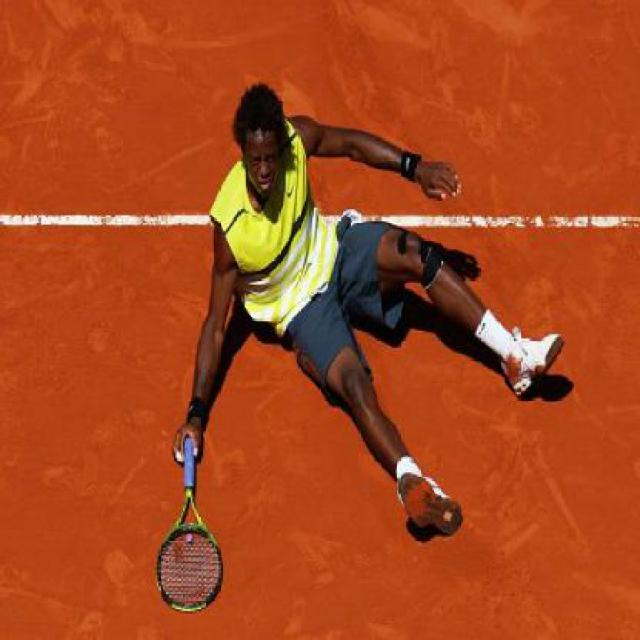fall: (165, 79, 593, 498)
